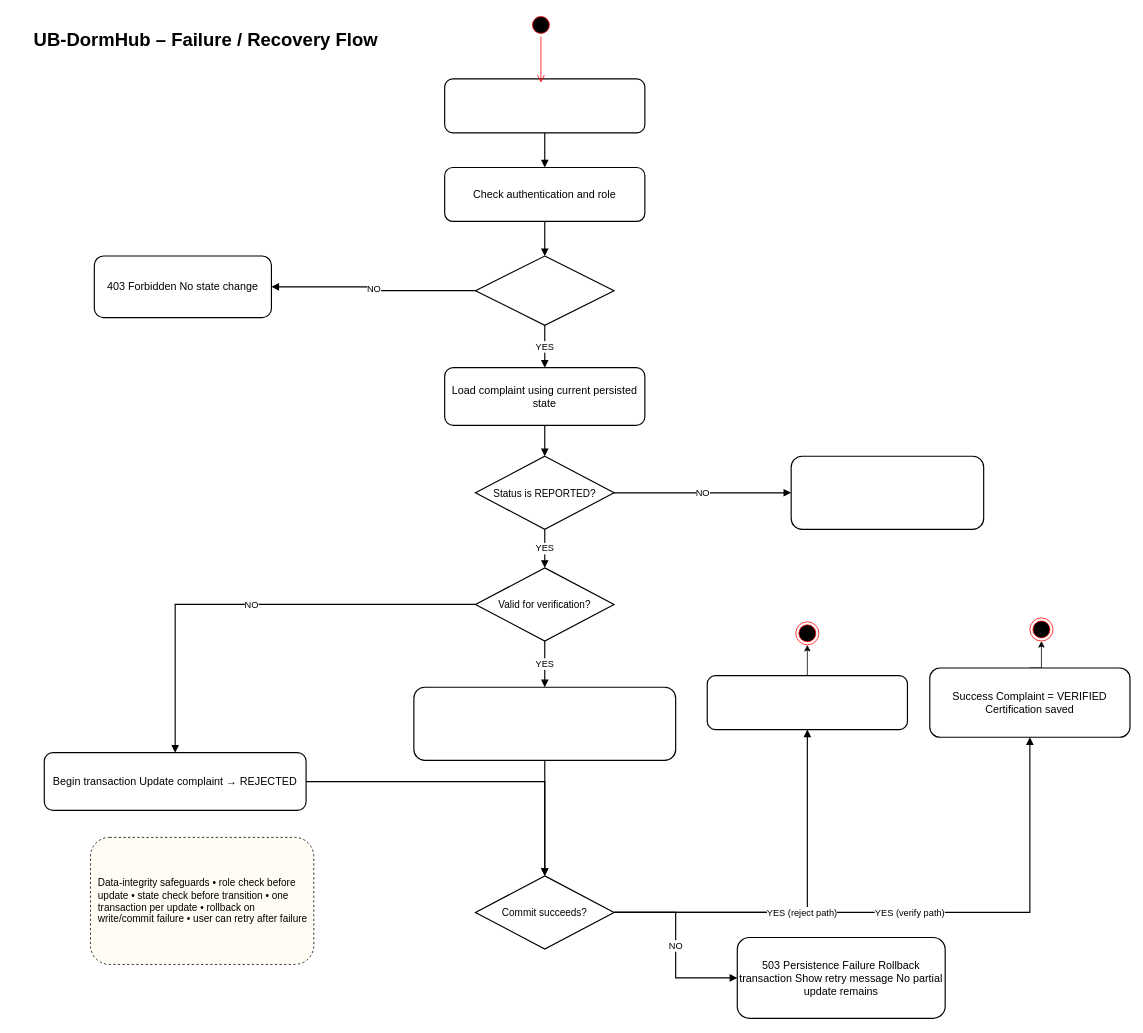
Image size: 1143x1033. Some labels were removed from this diagram. The box of each missing label's shape, as (x1, y1, x2, y2) in pixels:
409 Conflict Reload current complaint No state change: (790, 455, 984, 530)
Authorised?: (475, 255, 614, 326)
Begin transaction Create CertificationRecord Update complaint → VERIFIED: (413, 686, 676, 761)
Student Welfare Officer submits VERIFY action: (444, 78, 645, 133)
Success Complaint = REJECTED: (706, 675, 908, 730)
